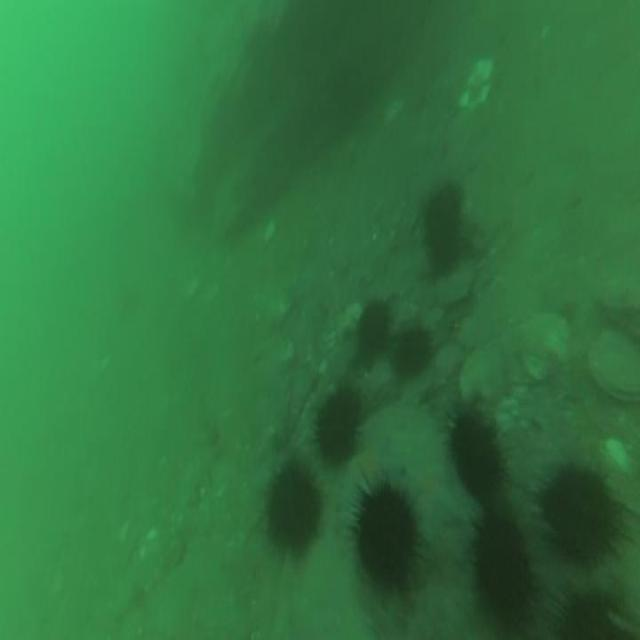echinus: (541, 446, 631, 578), (467, 493, 541, 627), (259, 444, 329, 571), (440, 400, 503, 498), (421, 177, 471, 284), (308, 386, 364, 466), (385, 318, 442, 386), (345, 286, 394, 363)
scallop: (589, 319, 640, 408)
starfish: (402, 450, 468, 561), (342, 439, 406, 522)
